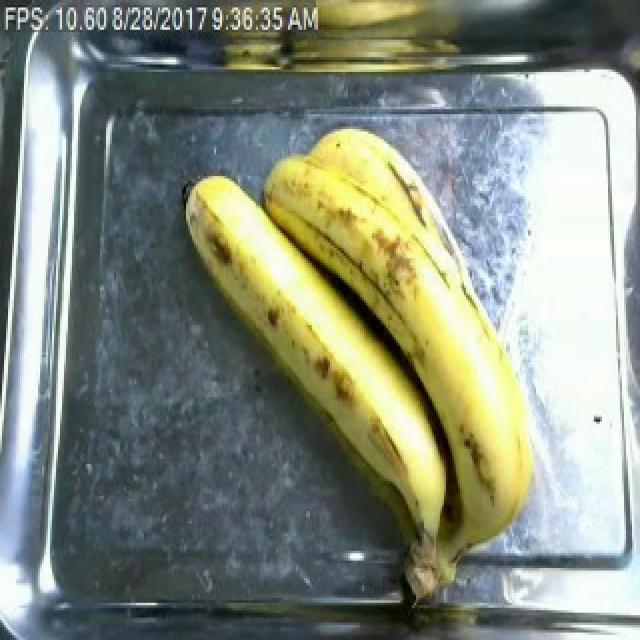Banana: (182, 124, 534, 603)
